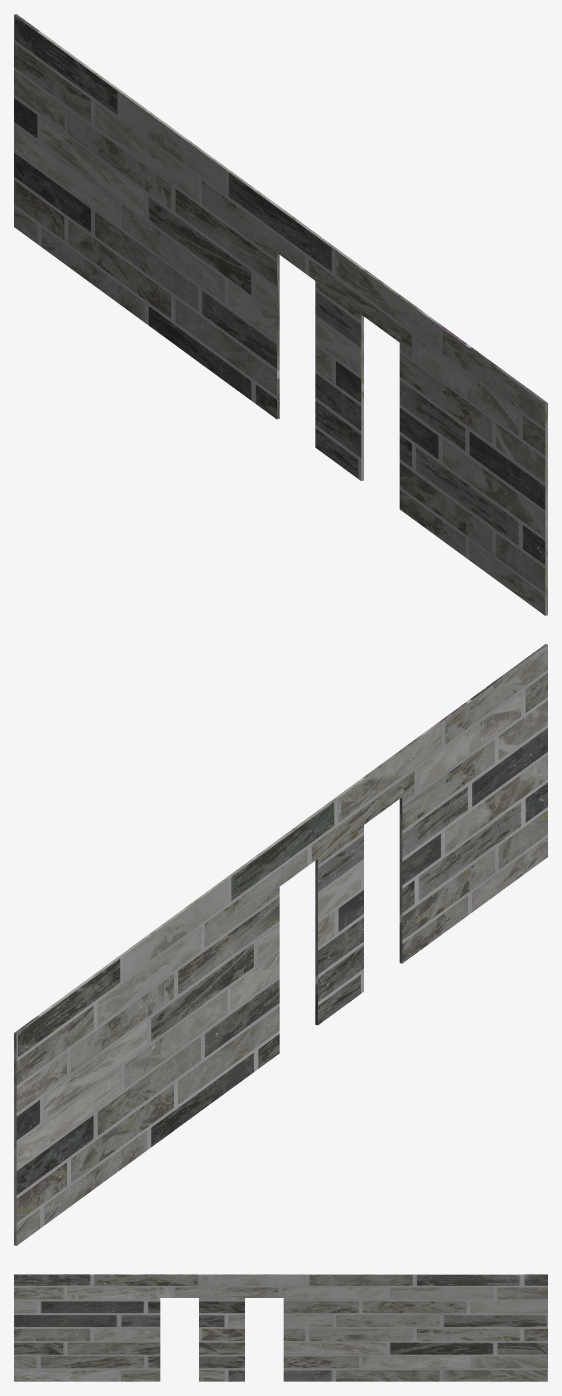
The model's file is SM_WcWall.fbx.
3 renders of one model, top to bottom at view 1: azimuth 30°, elevation 25°; view 2: azimuth 150°, elevation 25°; view 3: azimuth 270°, elevation 25°, orthographic. The views are drawn at different scales.
Visible parts, largest first — view 1: SM_WcWall; view 2: SM_WcWall; view 3: SM_WcWall.
Part boxes in pixels (bbox=[...]): SM_WcWall: bbox=[14, 14, 547, 615]; SM_WcWall: bbox=[14, 644, 547, 1245]; SM_WcWall: bbox=[14, 1274, 547, 1381].
Bounding box in the file's own units: 3.87 × 1361 × 300.
Materials: 1 (1 with a texture image).
